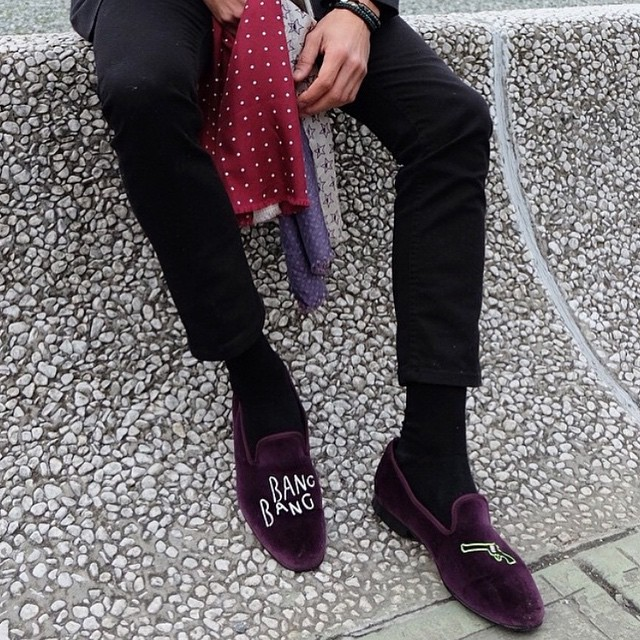sneaker: (362, 412, 556, 640), (207, 333, 348, 591)
